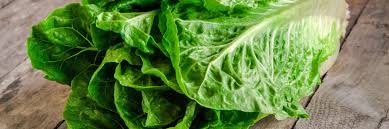lettuce: (45, 3, 338, 129)
